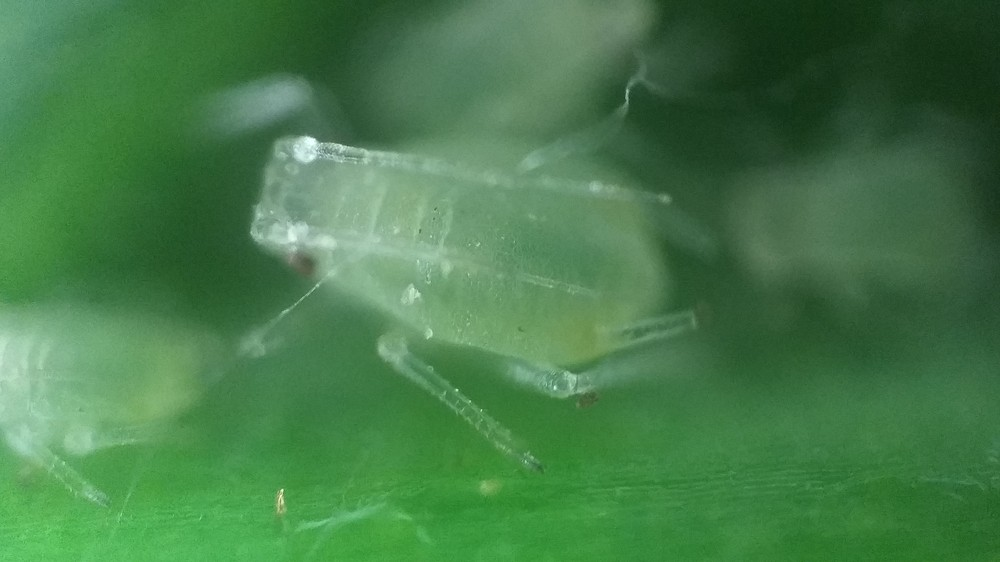Pulgon: (217, 88, 733, 478)
